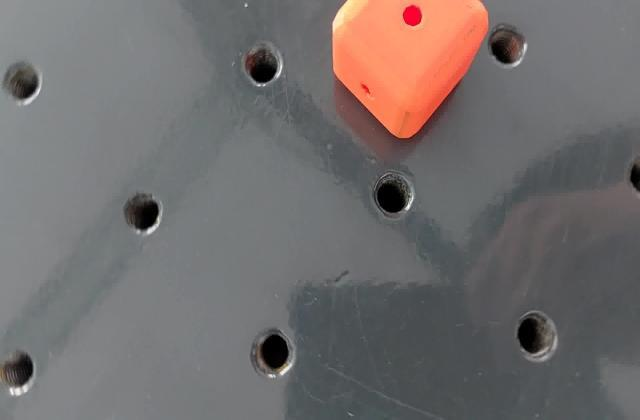cube: (329, 1, 496, 145)
